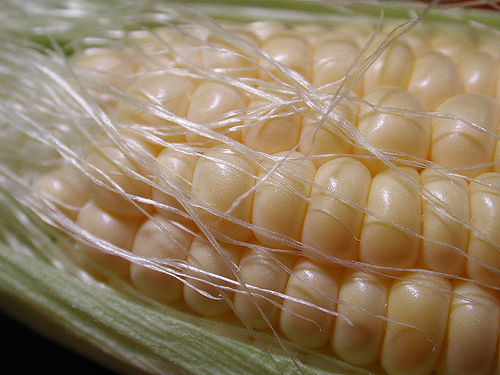corn: (0, 17, 498, 374)
